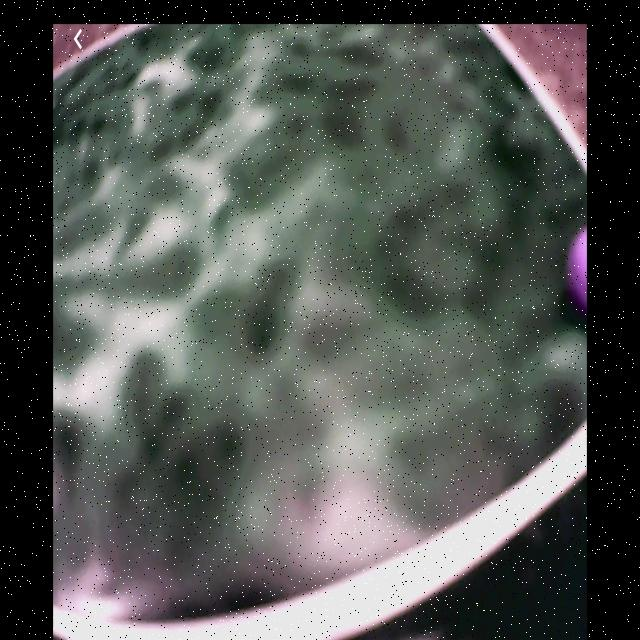ball: (566, 225, 589, 315)
